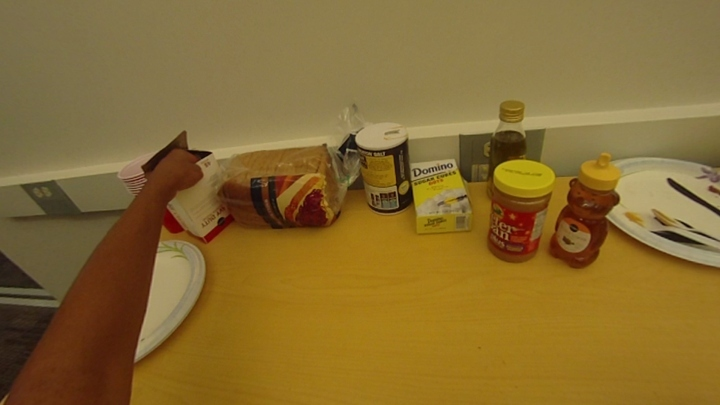hand: (139, 143, 203, 192)
